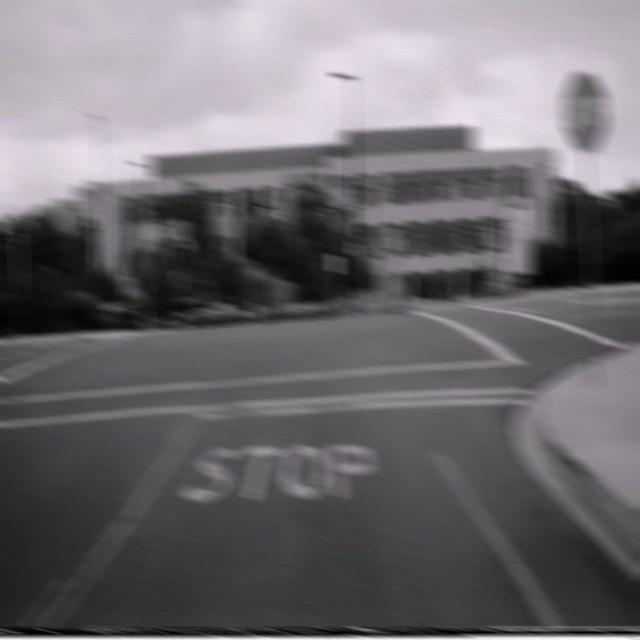stop: (560, 68, 610, 155)
